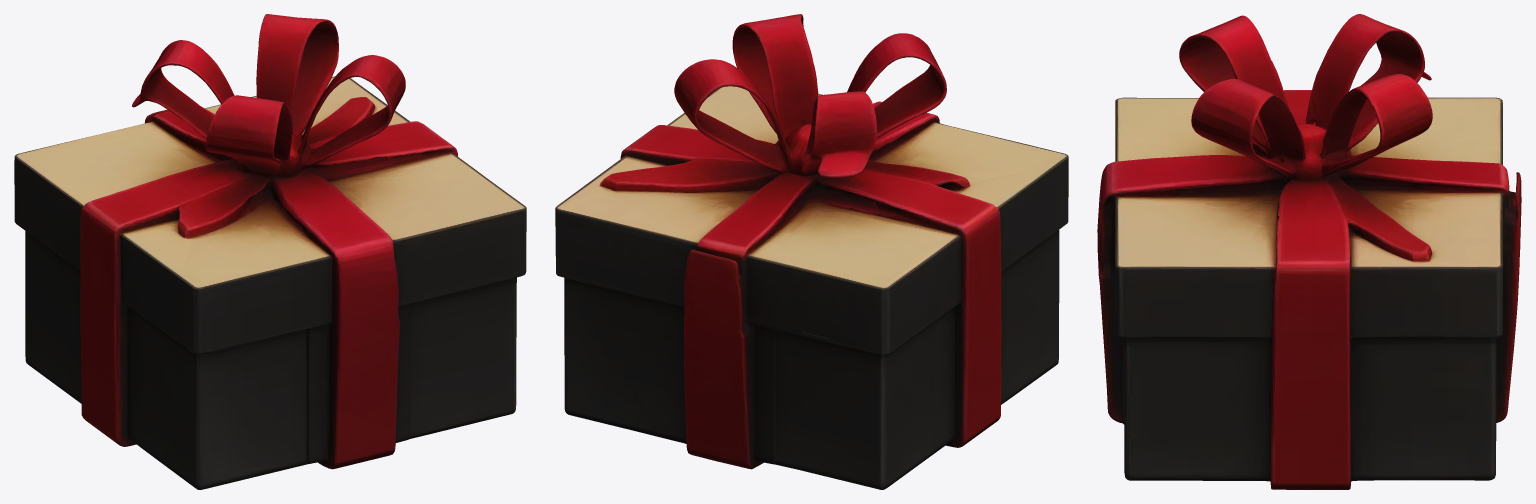
Rendered from giftbox_black_redbow_2.glb.
3 renders of one model, left to right at view 1: azimuth 30°, elevation 25°; view 2: azimuth 150°, elevation 25°; view 3: azimuth 270°, elevation 25°, orthographic. The views are drawn at different scales.
Parts seen in each view (by area): view 1: geometry_0; view 2: geometry_0; view 3: geometry_0.
Part boxes in pixels (<box>): geometry_0: <box>14,14,526,489</box>; geometry_0: <box>555,14,1068,489</box>; geometry_0: <box>1097,14,1521,489</box>.
Bounding box in the file's own units: 0.9872 × 0.9313 × 0.9953.
Materials: 1 (1 with a texture image).
